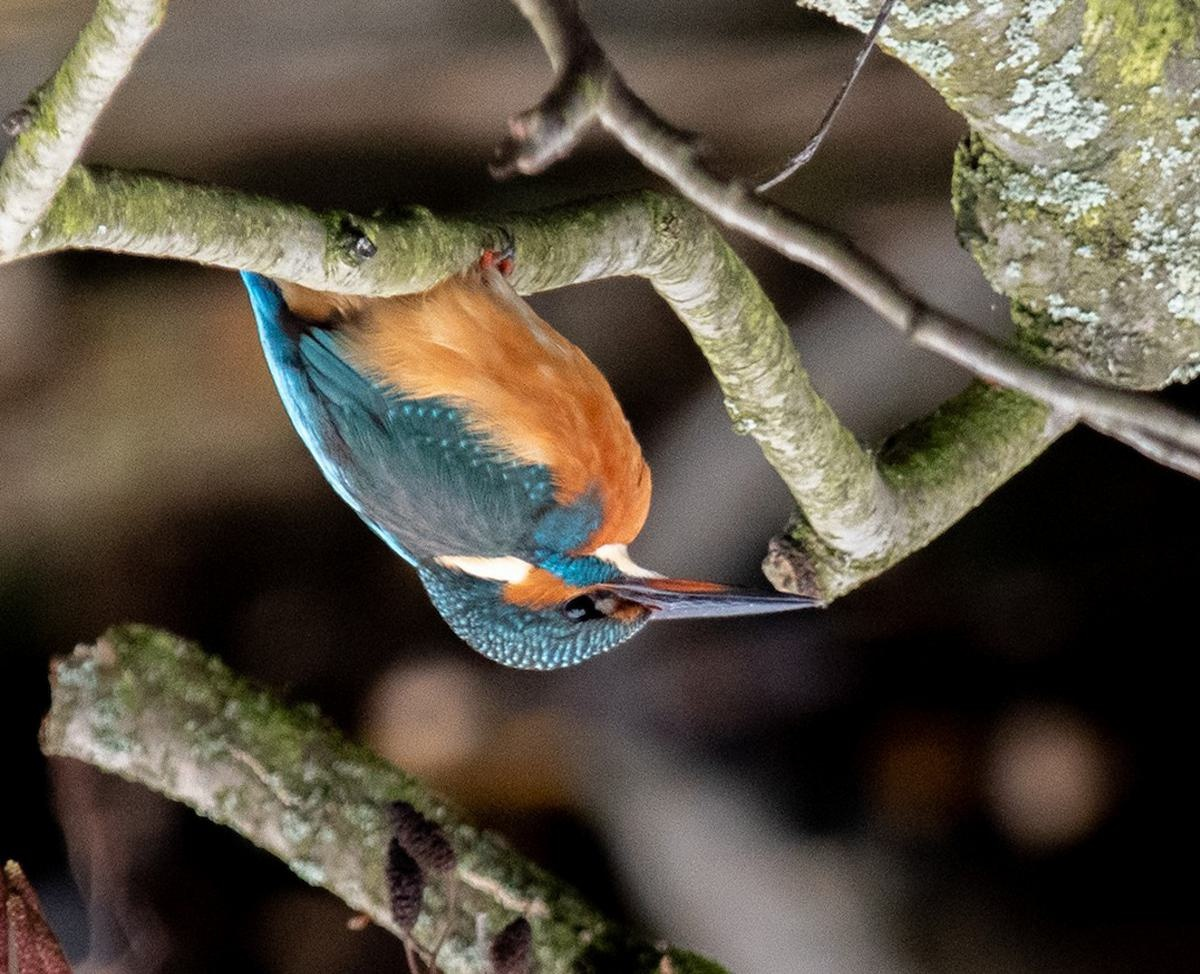kingfisher: (244, 237, 836, 681)
